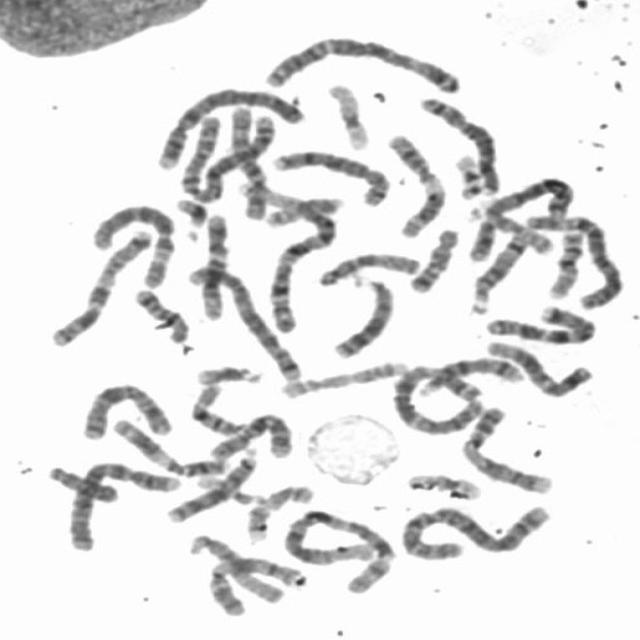A1: (240, 177, 337, 333), (277, 504, 398, 593)
A2: (390, 497, 554, 562), (176, 107, 280, 205)
A3: (256, 30, 464, 96), (388, 359, 483, 436)
B4: (153, 80, 309, 172), (57, 454, 186, 554)
B5: (186, 261, 304, 383), (467, 176, 588, 265)
C10: (223, 100, 270, 222), (205, 406, 296, 462)
C11: (108, 412, 235, 478), (380, 127, 449, 239)
C12: (481, 335, 594, 399), (194, 210, 231, 322)
C6: (518, 207, 625, 310), (84, 200, 176, 287)
C7: (44, 224, 156, 348), (480, 301, 598, 347)
C8: (414, 91, 504, 198), (266, 144, 391, 208)
C9: (456, 399, 558, 495), (204, 552, 310, 618)
D13: (162, 445, 261, 524), (327, 273, 398, 360)
D14: (462, 228, 532, 316), (412, 352, 524, 398)
D15: (182, 528, 288, 606), (310, 246, 422, 288)
E16: (184, 378, 246, 436), (542, 226, 586, 300)
E17: (275, 354, 410, 400), (240, 480, 316, 542)
E18: (404, 222, 462, 294), (129, 282, 193, 344)
F19: (322, 77, 373, 152), (401, 468, 485, 501)
F20: (482, 206, 558, 258), (258, 191, 346, 229)
G21: (190, 359, 265, 387), (169, 193, 210, 234)
G22: (191, 471, 266, 506), (448, 148, 484, 200)
X: (414, 91, 504, 198), (76, 378, 176, 443)
Y: (42, 461, 122, 505)
